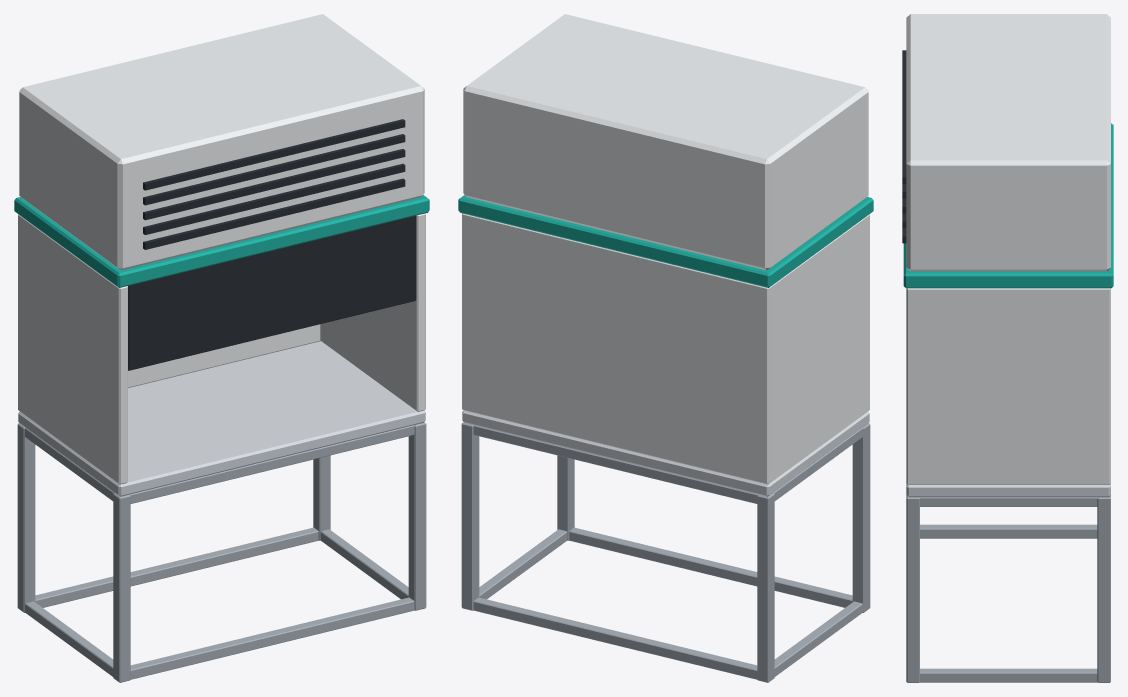
Rendered from laminar-flow-hood.glb.
3 views of the same model, side by side, from view 1: azimuth 30°, elevation 25°; view 2: azimuth 150°, elevation 25°; view 3: azimuth 270°, elevation 25° (orthographic).
Parts seen in each view (by area): view 1: laminar-flow-hood; view 2: laminar-flow-hood; view 3: laminar-flow-hood.
Part boxes in pixels (<box>): laminar-flow-hood: <box>14,14,429,682</box>; laminar-flow-hood: <box>458,14,873,682</box>; laminar-flow-hood: <box>902,14,1113,682</box>.
Size of the model in its own units: 1.32 by 2.11 by 0.775.
